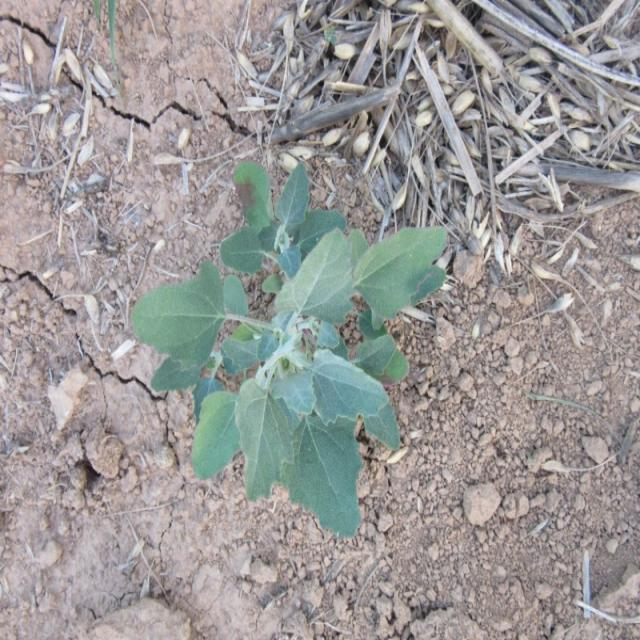ca: (131, 156, 449, 541)
